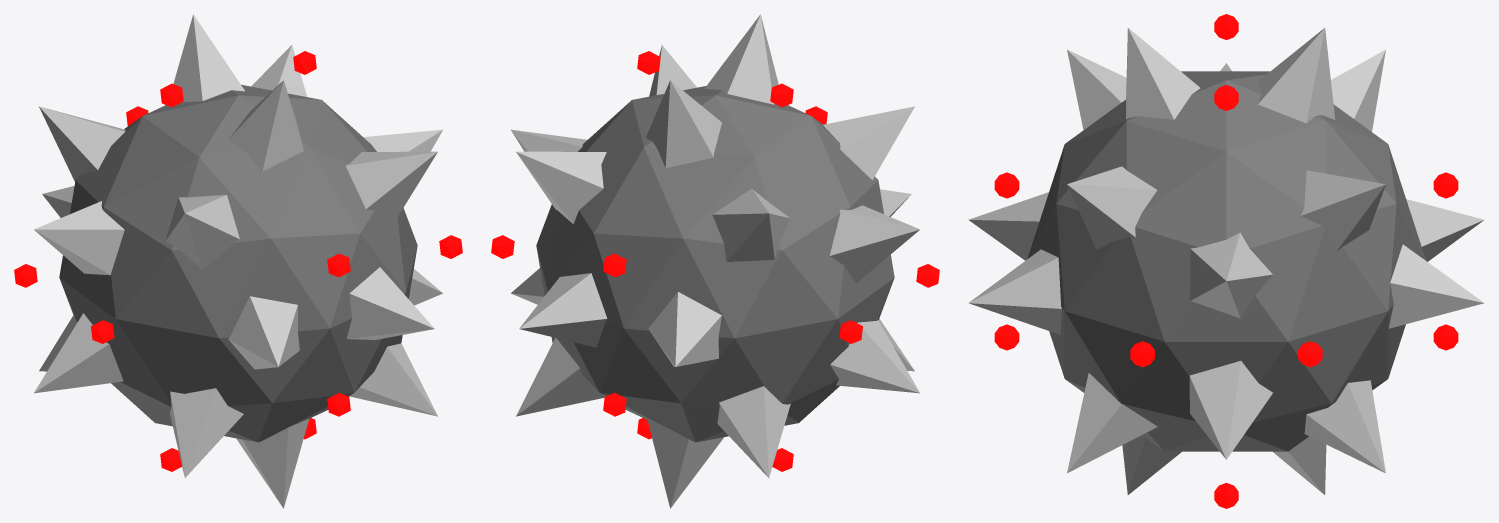
Rendered from spiked-ball.glb.
3 views of the same model, side by side, from view 1: azimuth 30°, elevation 25°; view 2: azimuth 150°, elevation 25°; view 3: azimuth 270°, elevation 25° (orthographic). The views are drawn at different scales.
Parts seen in each view (by area): view 1: SpikedBall; view 2: SpikedBall; view 3: SpikedBall.
Boxes of the visible parts, x1,y1,x2,y2 form: SpikedBall: (14, 14, 462, 508); SpikedBall: (491, 14, 939, 508); SpikedBall: (968, 14, 1484, 508).
Bounding box in the file's own units: 1 × 1 × 1.
